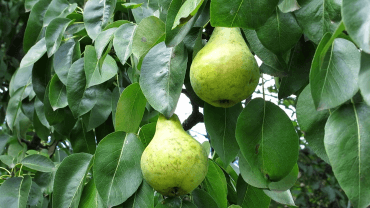pear: (188, 20, 267, 112), (139, 111, 208, 198)
